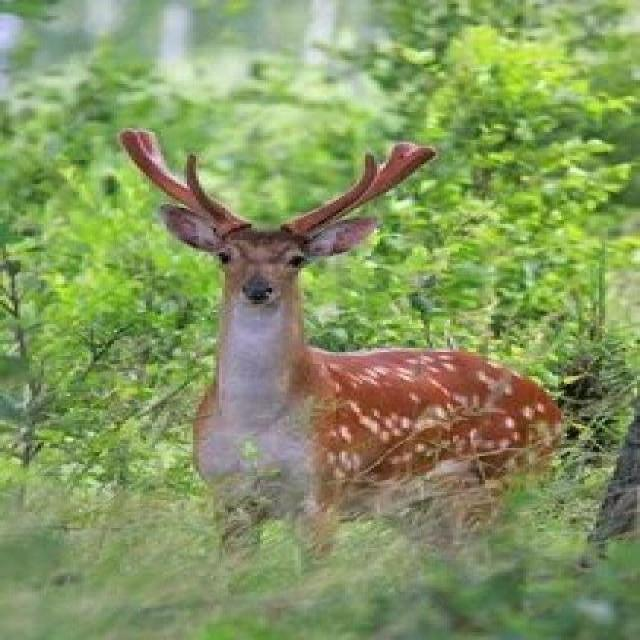deer: (84, 97, 595, 564)
